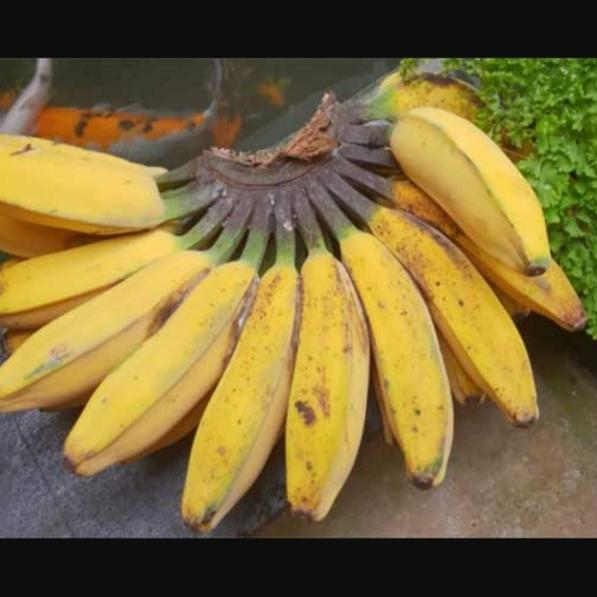buah_sayur_vitA: (305, 280, 351, 474), (6, 165, 151, 209), (381, 296, 429, 420), (112, 367, 173, 431), (244, 333, 279, 441), (439, 129, 489, 204), (54, 303, 120, 359), (19, 255, 97, 294), (450, 304, 515, 348)
